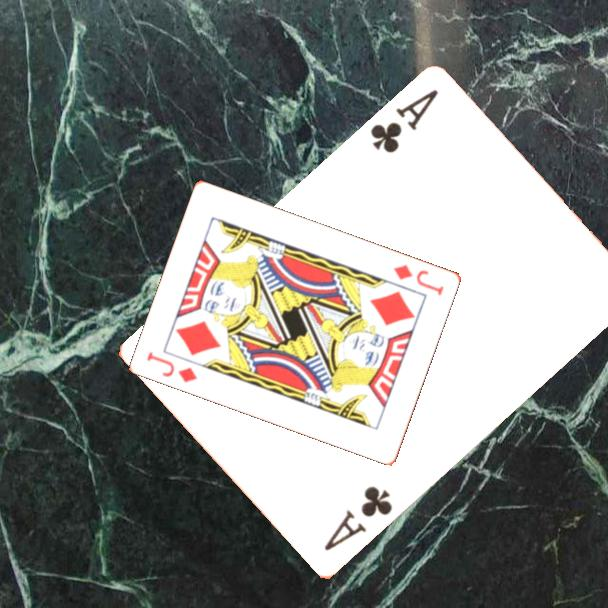c01: (320, 483, 396, 555), (366, 86, 441, 157)
d11: (143, 348, 201, 386), (390, 260, 447, 298)
